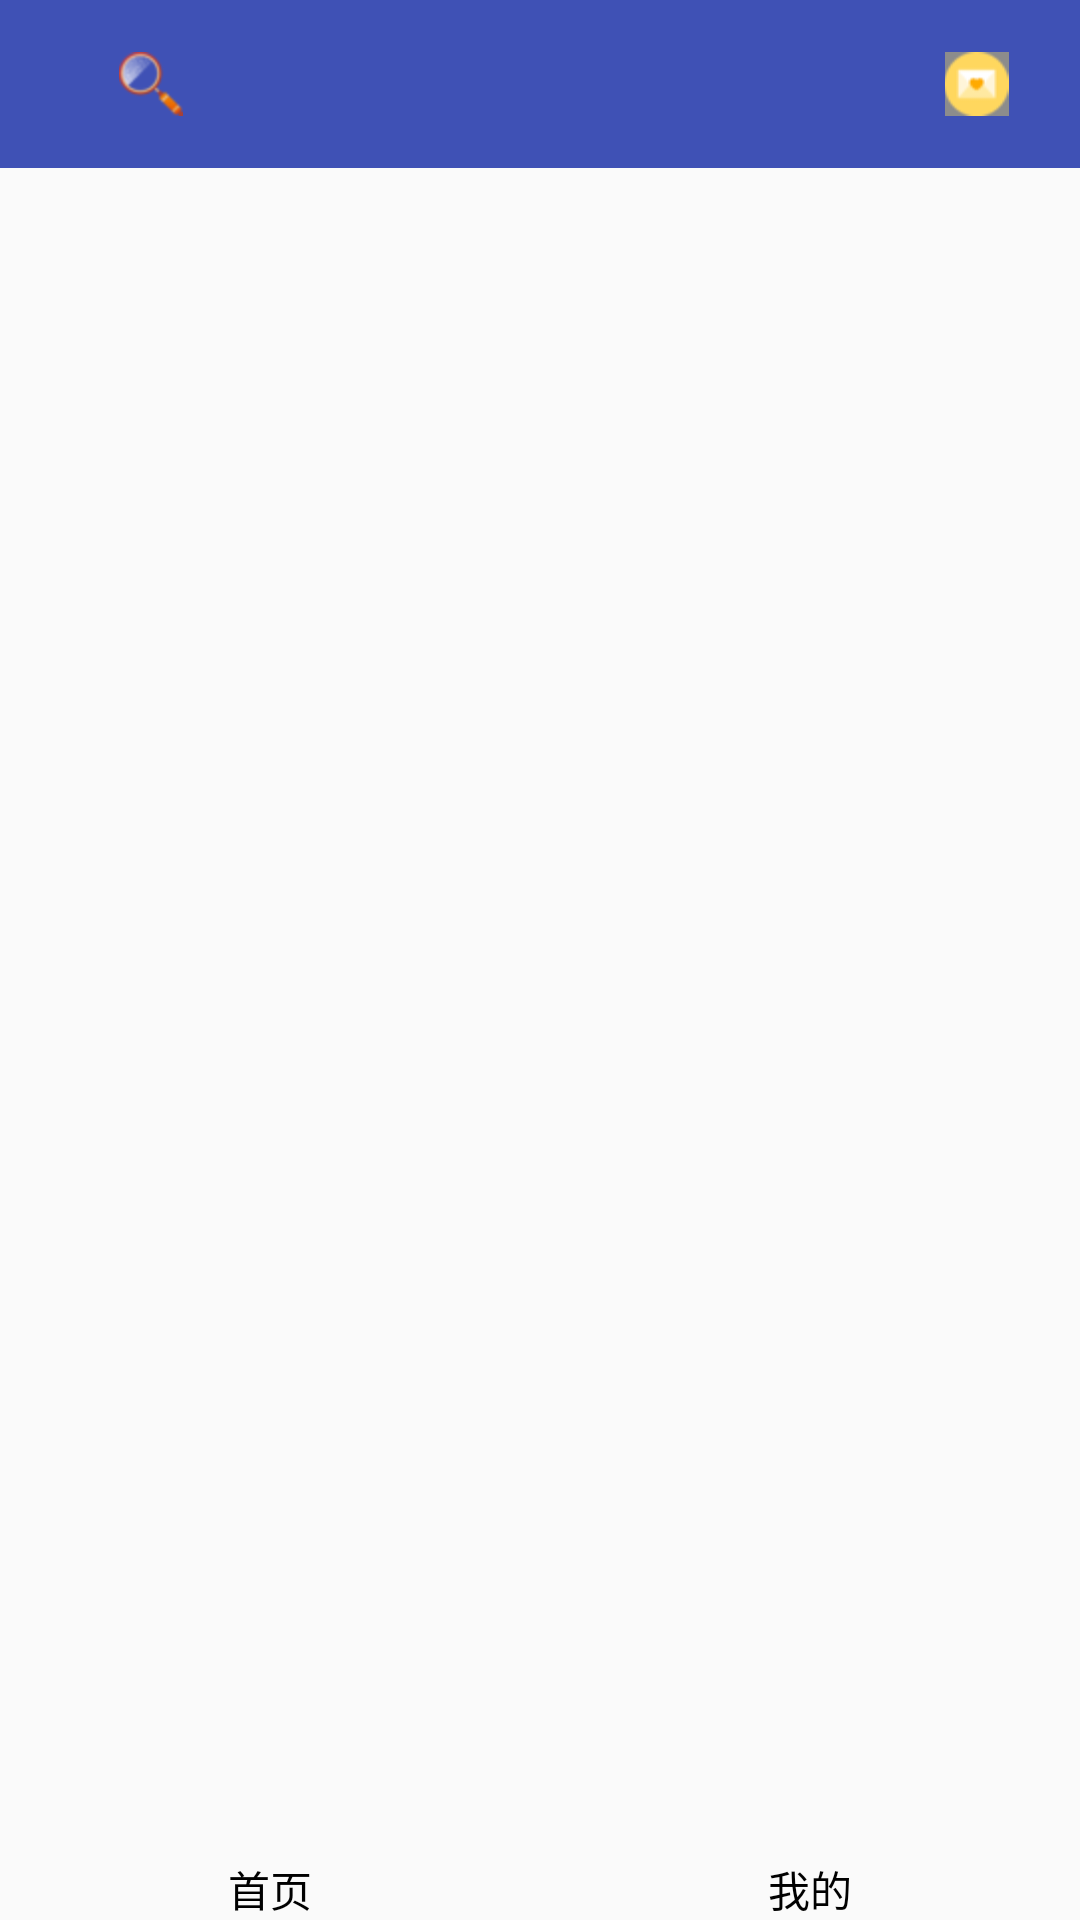

Screen size 1080 × 1920. Icon name, then its center in pixels as [x,y]:
message: [977,84]
search: [151,84]
